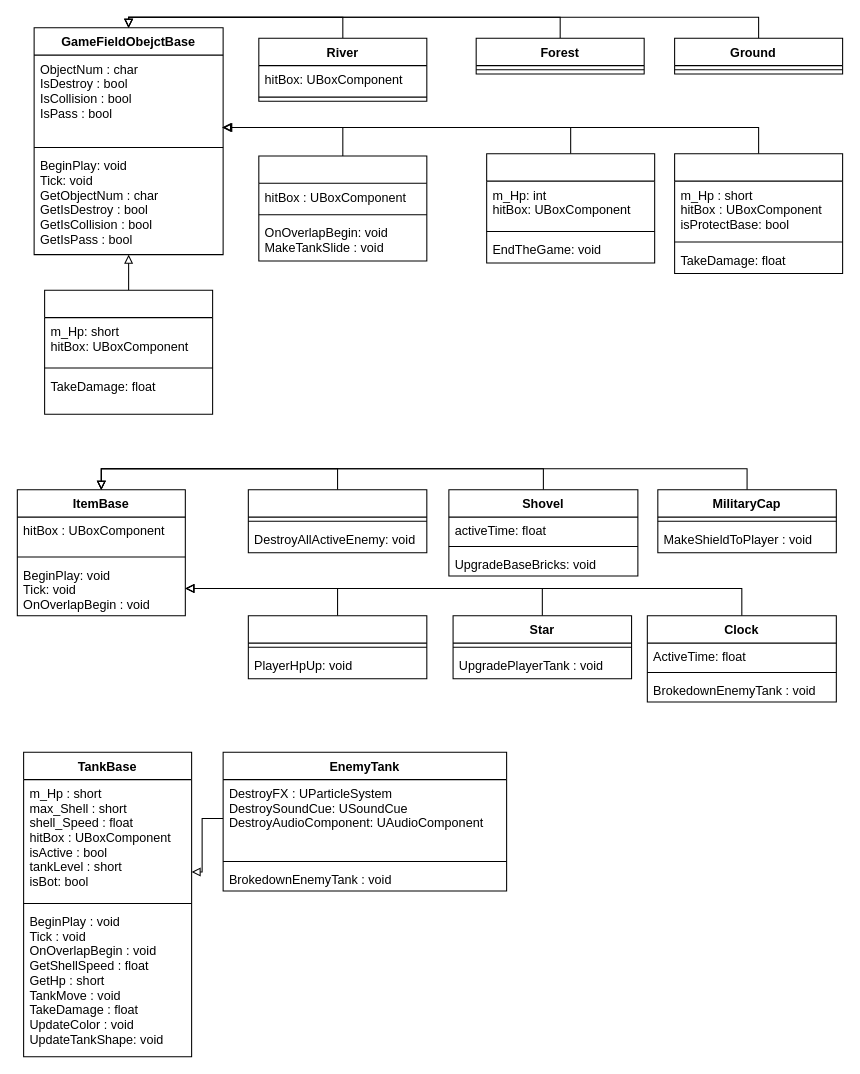
The diagram is 860 pixels wide and 1074 high, and some of its shapes have lost their labels. Each missing label, with the box of its shape:
Base: (486, 153, 655, 263)
Block(5 types): (44, 289, 213, 414)
Brick(5 types): (674, 153, 843, 274)
Grenade: (247, 489, 427, 553)
IceBoard: (258, 155, 427, 261)
Tank: (247, 615, 427, 679)
